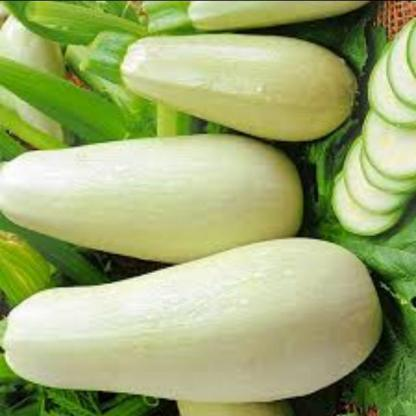vegetable marrow: (0, 242, 390, 398), (0, 131, 326, 267), (107, 0, 354, 136), (322, 0, 416, 246)
